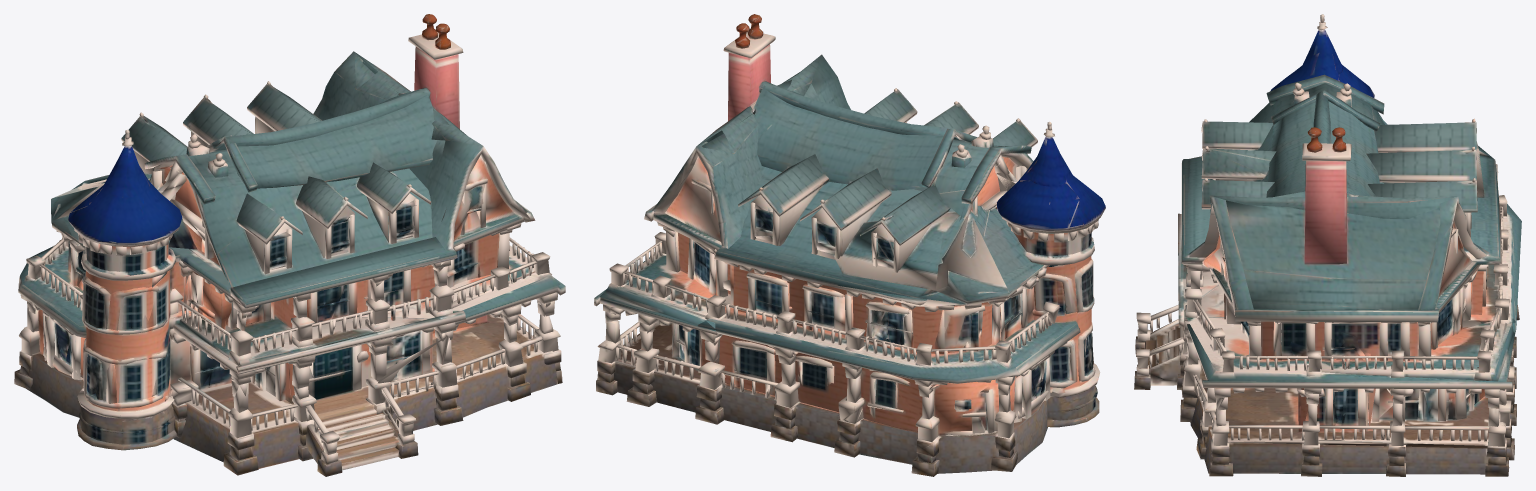
The model's file is manor.glb.
The picture shows the model from 3 angles, left to right: view 1: azimuth 30°, elevation 25°; view 2: azimuth 150°, elevation 25°; view 3: azimuth 270°, elevation 25°; orthographic projection. The views are drawn at different scales.
Parts seen in each view (by area): view 1: manor_LOD0; view 2: manor_LOD0; view 3: manor_LOD0.
Boxes of the visible parts, x1,y1,x2,y2 form: manor_LOD0: (14, 14, 565, 476); manor_LOD0: (594, 14, 1105, 476); manor_LOD0: (1134, 14, 1521, 476).
Size of the model in its own units: 1 by 0.7562 by 0.8318.
1 material, 1 textured.
